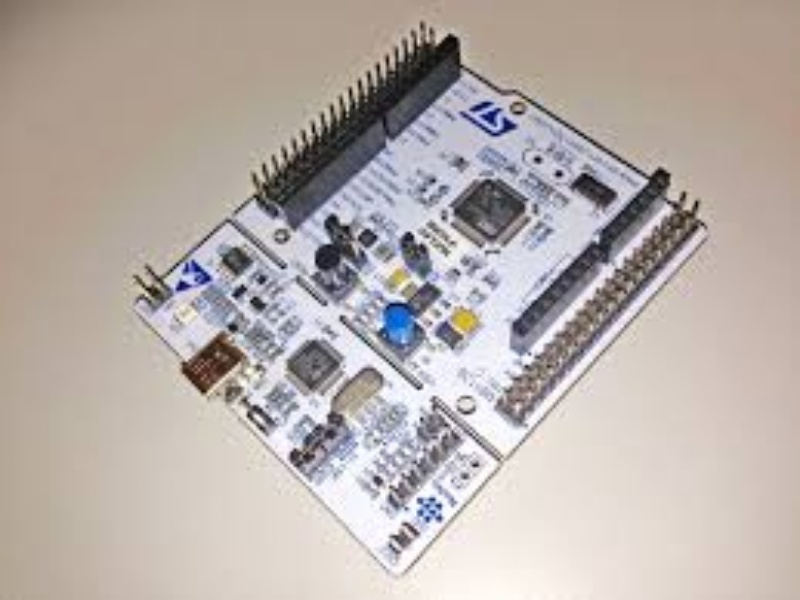stmnucleo: (110, 17, 718, 543)
